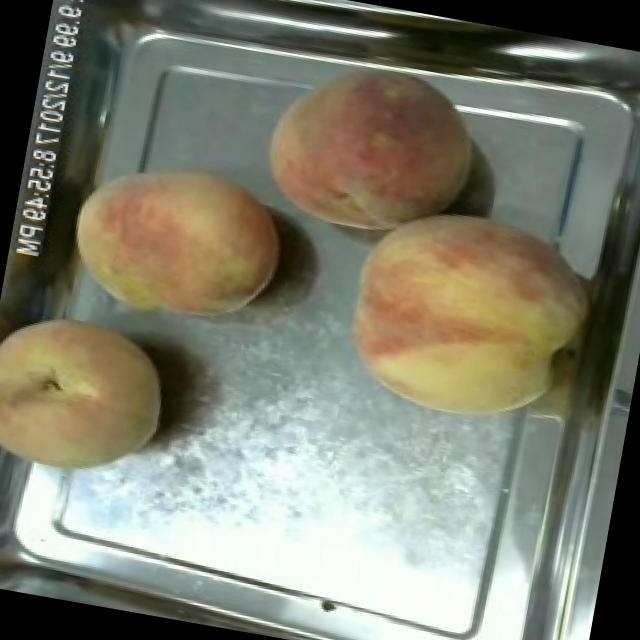Fruit: (324, 185, 606, 445), (242, 39, 491, 258), (48, 137, 300, 346), (0, 294, 182, 498)
